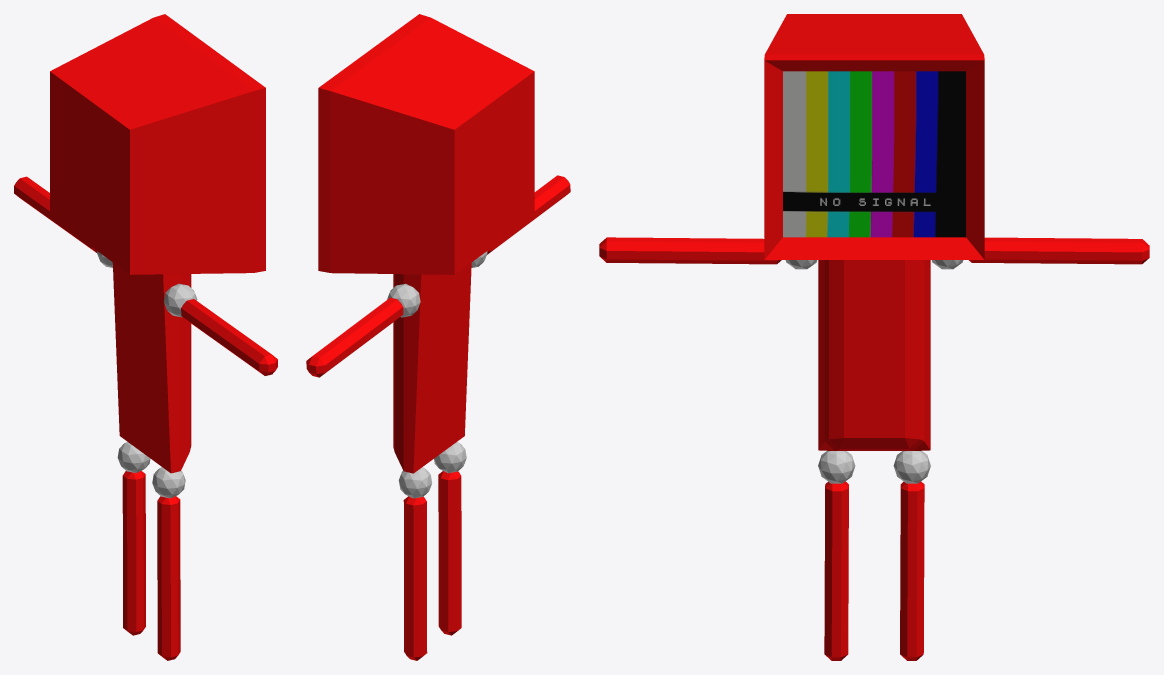
File: Character.obj
3 views of the same model, side by side, from view 1: azimuth 30°, elevation 25°; view 2: azimuth 150°, elevation 25°; view 3: azimuth 270°, elevation 25° (orthographic). The views are drawn at different scales.
Visible parts, largest first — view 1: HeadBox, MainBody, RightLeg, LeftLeg, RightArm, LeftArm, RightHip, RightShoulder, LeftHip; view 2: HeadBox, MainBody, RightLeg, LeftLeg, LeftArm, RightArm, LeftHip, RightHip, LeftShoulder; view 3: Face, HeadBox, MainBody, RightArm, LeftArm, LeftLeg, RightLeg, LeftHip, RightHip.
Part boxes in pixels (x1,y1,x2,y2): HeadBox: (50,14,265,274); MainBody: (112,262,191,473); RightLeg: (157,496,180,660); LeftLeg: (122,471,145,635); RightArm: (181,299,277,375); LeftArm: (14,176,97,252); RightHip: (152,467,185,498); RightShoulder: (164,283,197,317); LeftHip: (117,442,150,472); HeadBox: (318,14,534,274); MainBody: (393,262,471,473); RightLeg: (438,471,461,635); LeftLeg: (403,496,427,660); LeftArm: (306,297,403,377); RightArm: (487,175,570,254); LeftHip: (398,467,431,498); RightHip: (434,442,466,473); LeftShoulder: (387,283,420,317); Face: (783,71,965,237); HeadBox: (764,14,984,259); MainBody: (818,260,930,450); RightArm: (599,237,781,264); LeftArm: (969,237,1149,264); LeftLeg: (900,481,924,660); RightLeg: (824,481,848,660); LeftHip: (893,451,930,483); RightHip: (818,451,855,483).
Bounding box in the file's own units: 1.26 × 5.55 × 4.37.
3 materials, 1 textured.
